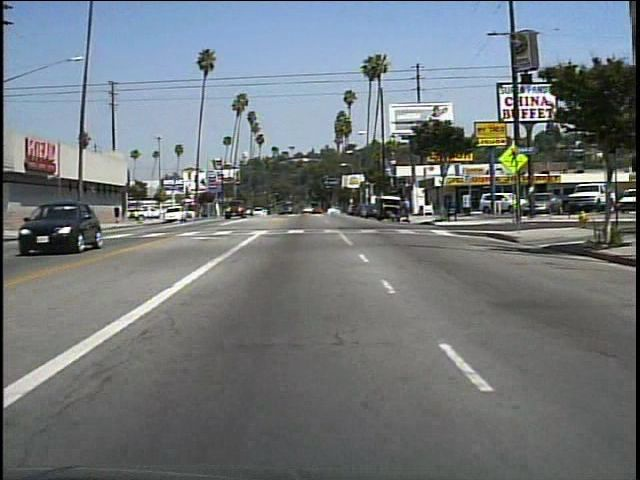person: (401, 194, 415, 225), (110, 199, 123, 225), (385, 208, 402, 227)
